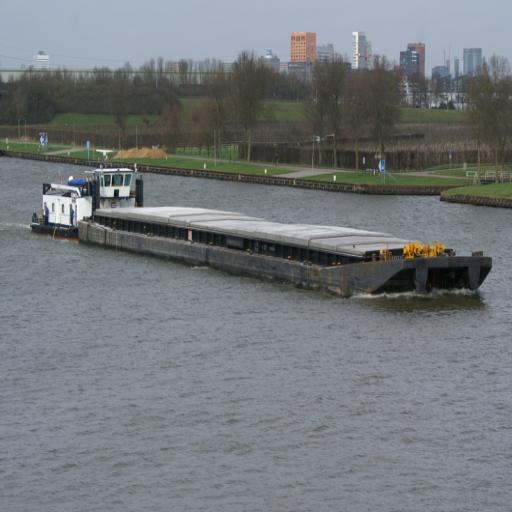tugboat: (27, 145, 148, 248)
